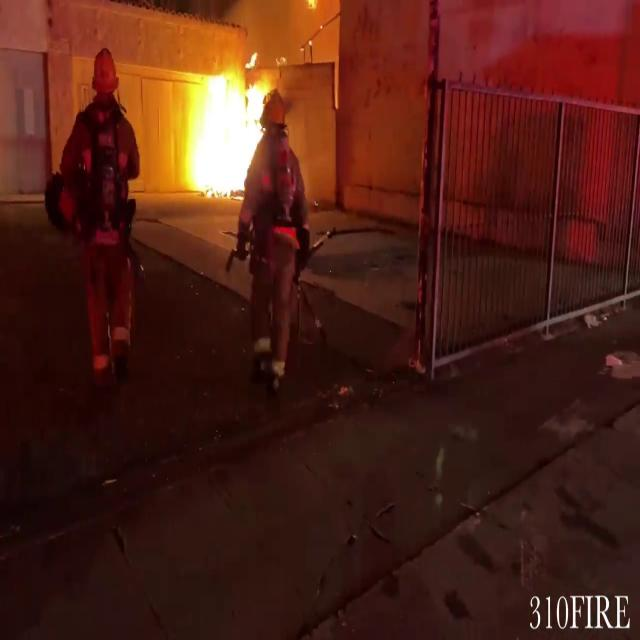Fire: (176, 56, 276, 203)
